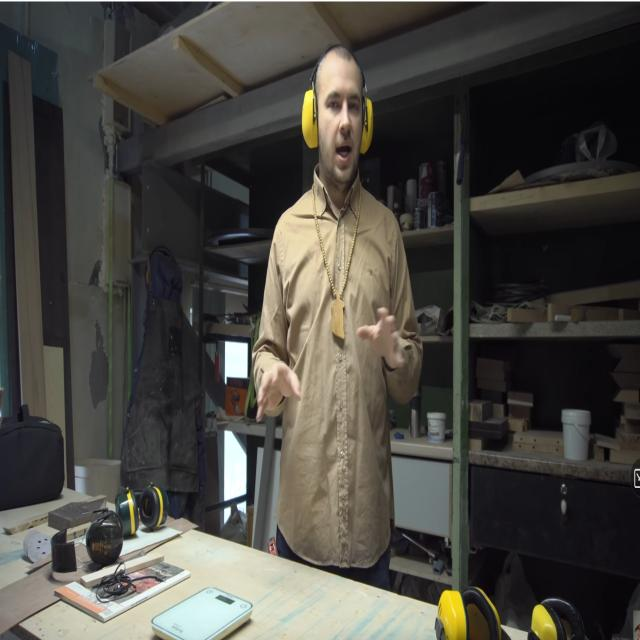Ear-protection: (299, 55, 323, 163), (358, 82, 376, 163)
No_Glasses: (321, 77, 360, 119)
